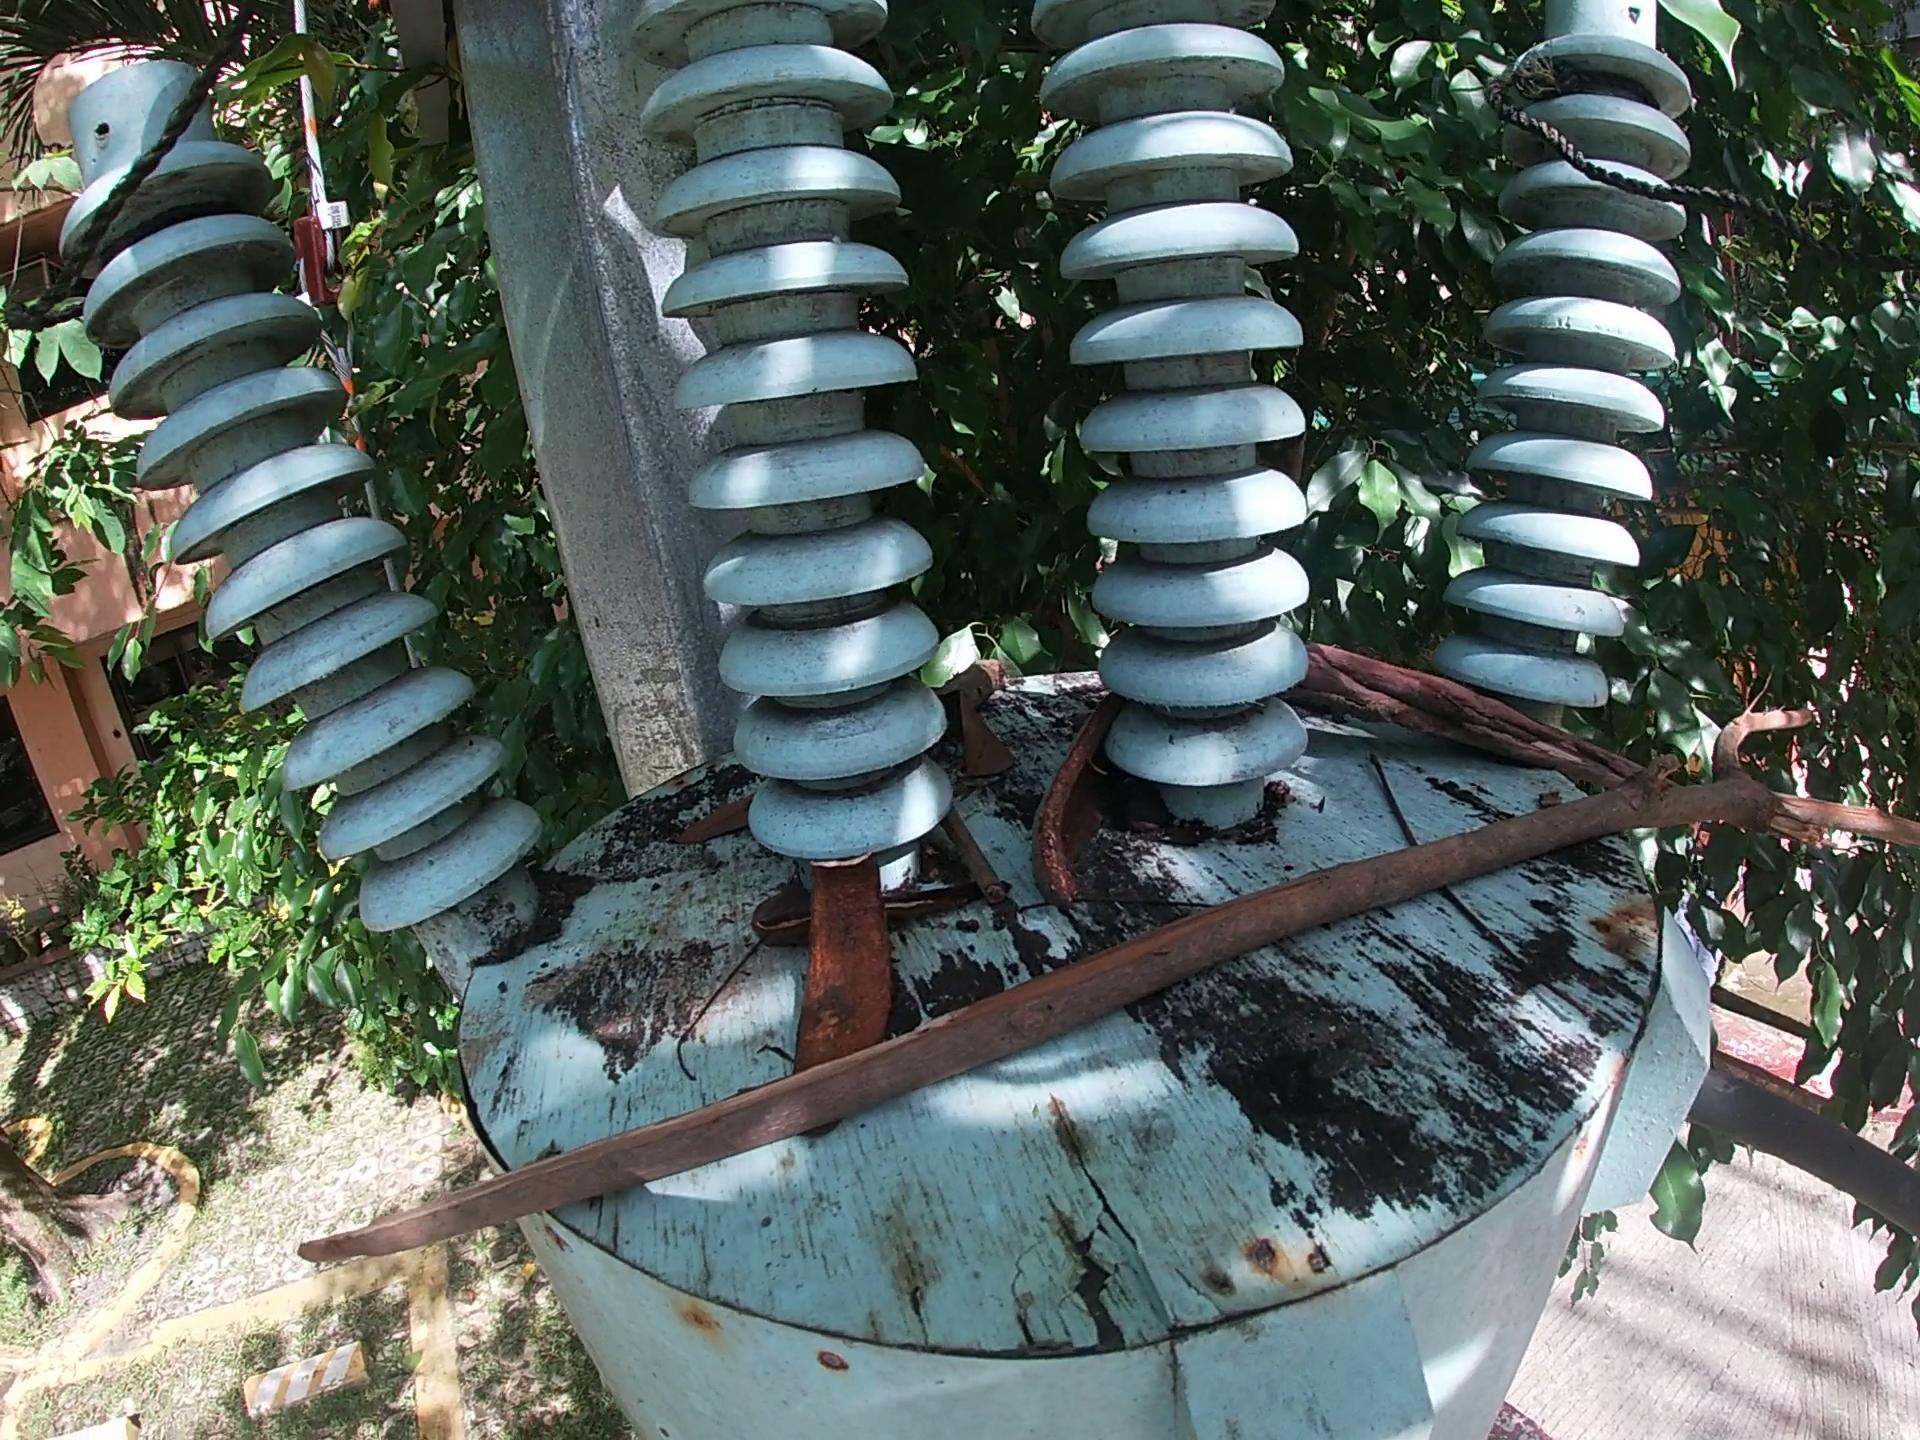leaf: (662, 796, 770, 859), (949, 684, 1005, 790), (748, 867, 797, 932)
mahogany fruit: (1027, 684, 1126, 929), (791, 861, 890, 1082)
tree branch: (286, 679, 1915, 1289), (1294, 629, 1634, 773), (665, 939, 759, 1098), (948, 812, 1027, 926), (1435, 880, 1527, 967), (1358, 740, 1427, 839), (1007, 892, 1228, 923), (934, 643, 1013, 725), (881, 871, 962, 912)
